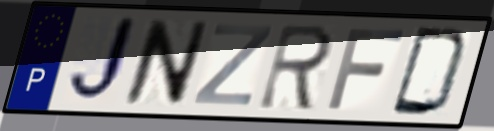D: (387, 24, 473, 119)
F: (324, 26, 409, 113)
J: (64, 13, 142, 108)
N: (119, 17, 212, 109)
R: (254, 22, 338, 114)
Z: (189, 21, 277, 108)
